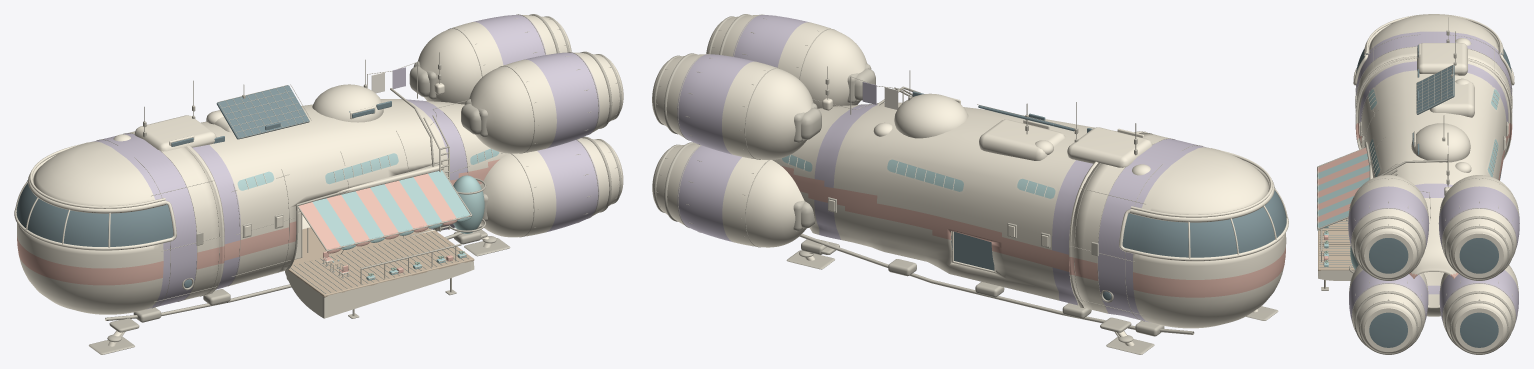
Rendered from caravan-ship.glb.
3 renders of one model, left to right at view 1: azimuth 30°, elevation 25°; view 2: azimuth 150°, elevation 25°; view 3: azimuth 270°, elevation 25°, orthographic. The views are drawn at different scales.
Visible parts, largest first — view 1: hull surfaces, booster-starboard-upper surfaces, booster-starboard-lower surfaces, porch-panel surfaces, awning surfaces, booster-port-upper surfaces, cockpit surfaces, roof surfaces, solar-panel surfaces, water-tank surfaces, landing-foot-0 surfaces, laundry surfaces (+1 smaller); view 2: hull surfaces, booster-port-upper surfaces, booster-port-lower surfaces, booster-starboard-upper surfaces, roof surfaces, cockpit surfaces, landing-foot-1 surfaces, laundry surfaces, landing-foot-3 surfaces; view 3: hull surfaces, booster-port-upper surfaces, booster-starboard-upper surfaces, booster-starboard-lower surfaces, booster-port-lower surfaces, roof surfaces, awning surfaces, porch-panel surfaces, solar-panel surfaces, cockpit surfaces.
Boxes of the visible parts, x1,y1,x2,y2 form: hull surfaces: (17, 99, 508, 322); booster-starboard-upper surfaces: (461, 51, 623, 153); booster-starboard-lower surfaces: (480, 136, 623, 237); porch-panel surfaces: (285, 229, 474, 318); awning surfaces: (298, 170, 472, 253); booster-port-upper surfaces: (409, 14, 571, 104); cockpit surfaces: (14, 142, 176, 250); roof surfaces: (113, 52, 444, 166); solar-panel surfaces: (216, 84, 311, 139); water-tank surfaces: (448, 175, 486, 233); landing-foot-0 surfaces: (89, 318, 139, 354); laundry surfaces: (367, 62, 417, 98); hull surfaces: (772, 99, 1286, 336); booster-port-upper surfaces: (652, 53, 821, 159); booster-port-lower surfaces: (652, 142, 814, 247); booster-starboard-upper surfaces: (706, 14, 875, 108); roof surfaces: (822, 66, 1152, 175); cockpit surfaces: (1119, 148, 1288, 261); landing-foot-1 surfaces: (1100, 317, 1154, 354); laundry surfaces: (850, 76, 903, 114); landing-foot-3 surfaces: (786, 240, 839, 269); hull surfaces: (1355, 14, 1512, 316); booster-port-upper surfaces: (1438, 175, 1519, 280); booster-starboard-upper surfaces: (1348, 175, 1429, 280); booster-starboard-lower surfaces: (1349, 265, 1428, 354); booster-port-lower surfaces: (1439, 265, 1518, 354); roof surfaces: (1377, 17, 1474, 195); awning surfaces: (1317, 147, 1369, 230); porch-panel surfaces: (1318, 218, 1354, 280); solar-panel surfaces: (1416, 64, 1454, 114); cockpit surfaces: (1353, 14, 1514, 85).
Size of the model in its own units: 40.2 by 13.95 by 14.31.
